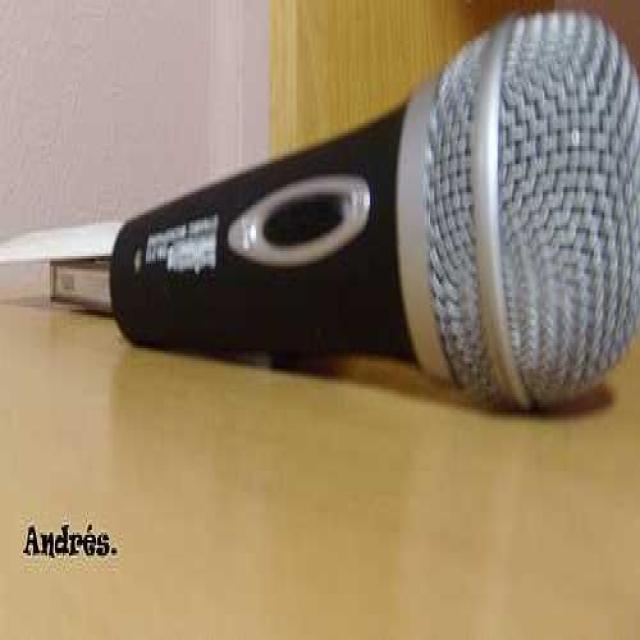microphone: (120, 11, 626, 411)
